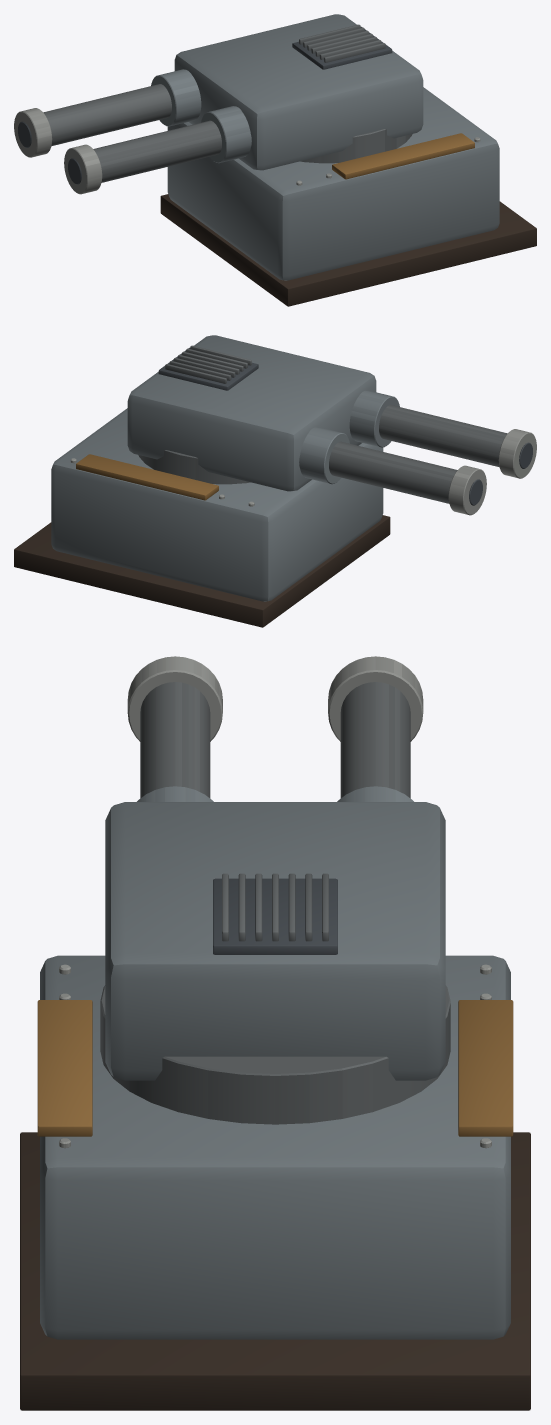
Rendered from weapon_sponson.glb.
3 views of the same model, one above another, from view 1: azimuth 30°, elevation 25°; view 2: azimuth 150°, elevation 25°; view 3: azimuth 270°, elevation 25° (orthographic). The views are drawn at different scales.
Visible parts, largest first — view 1: weapon_sponson; view 2: weapon_sponson; view 3: weapon_sponson.
Boxes of the visible parts, x1,y1,x2,y2 form: weapon_sponson: (14,14,536,306); weapon_sponson: (14,335,536,627); weapon_sponson: (20,656,530,1410).
Size of the model in its own units: 1.66 by 0.7126 by 0.8664.
